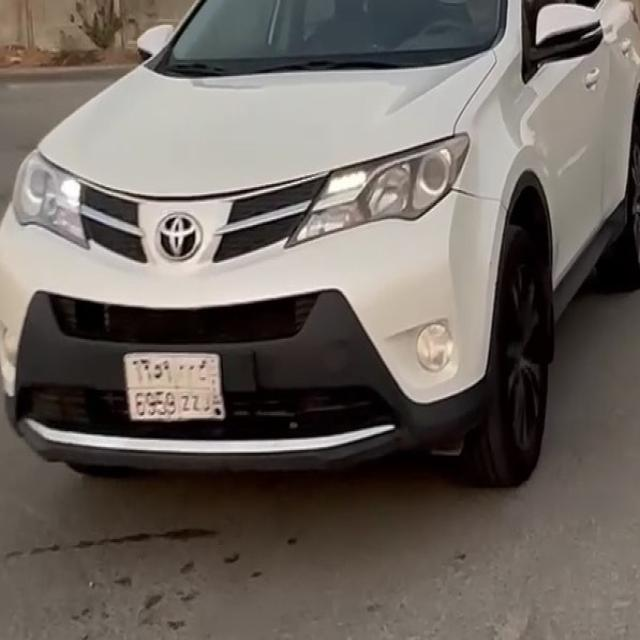Car-plate: (107, 335, 240, 442)
